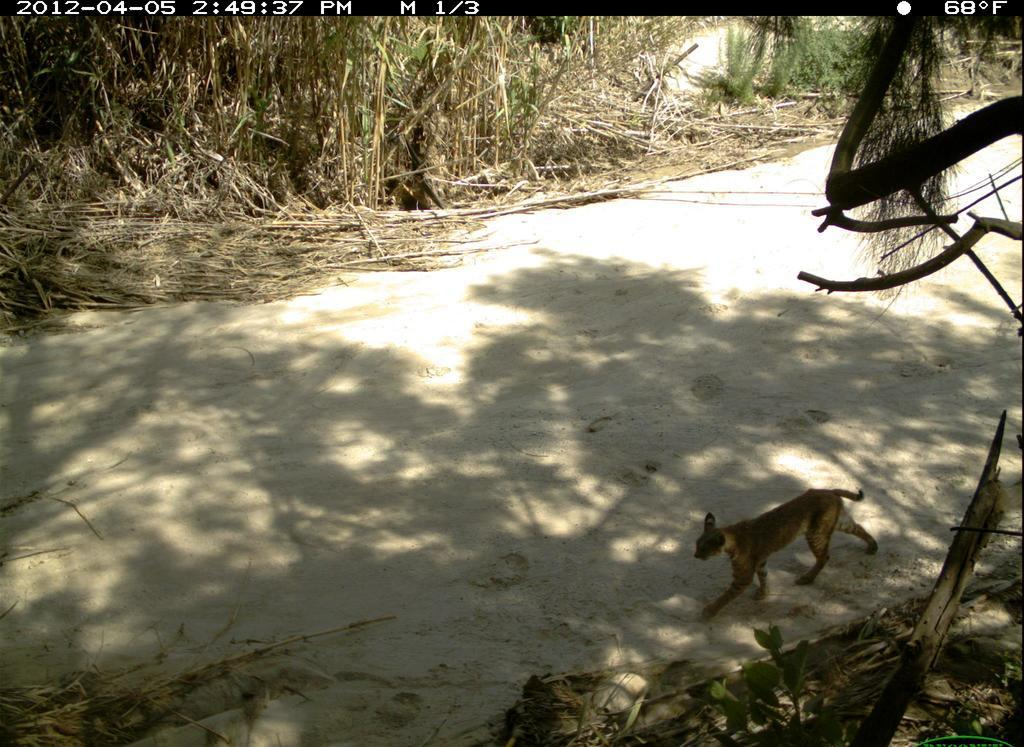bobcat: (685, 479, 889, 620)
